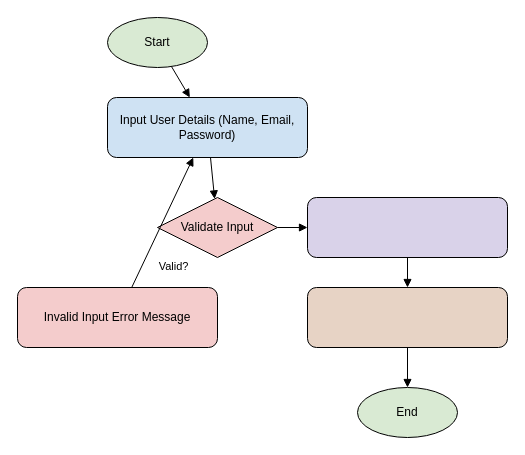
Some shapes in this 525 by 455 pixel diagram are drawn without their labels. Here are the shapes that lost their labels. From the top down, the centre of each, then its label:
At pixel 407 227: "Save User to Database".
At pixel 407 317: "Send Confirmation Email".
